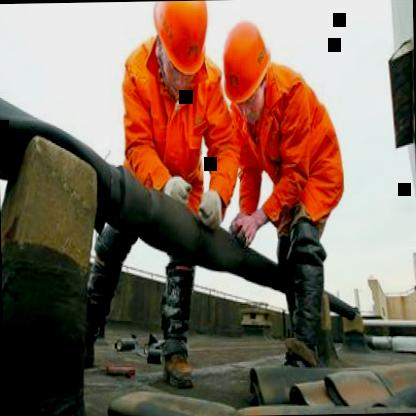helmet: (213, 13, 278, 122), (144, 0, 212, 87)
